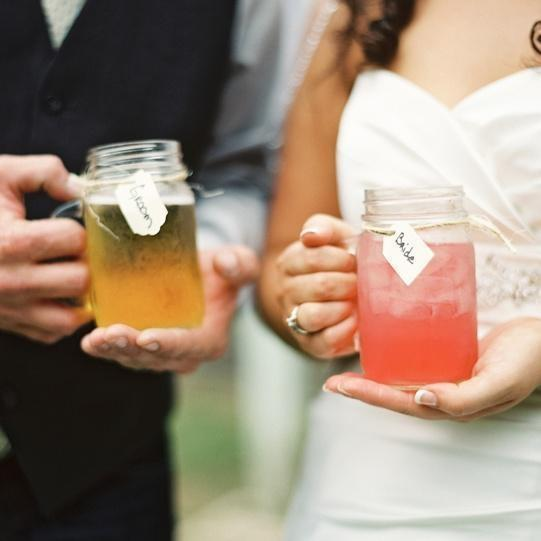glass-mug: (320, 183, 480, 389), (46, 138, 207, 332)
